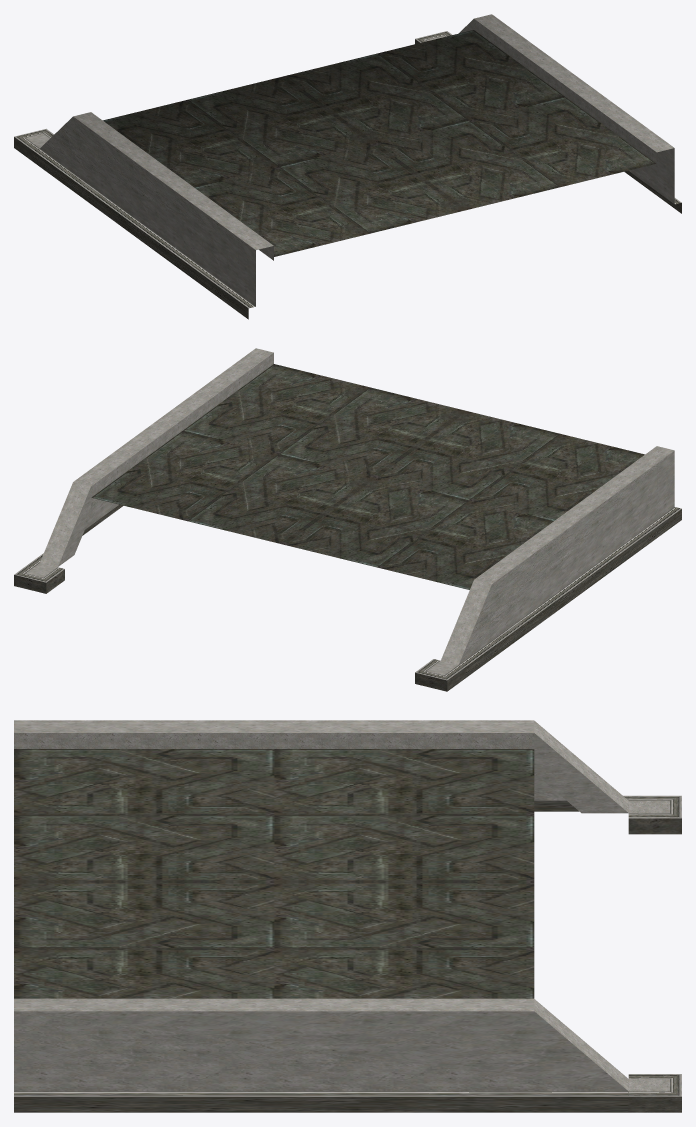
Rendered from DWARF_PALACE_FORGE_GET_ON01.fbx.
The picture shows the model from 3 angles, top to bottom: view 1: azimuth 30°, elevation 25°; view 2: azimuth 150°, elevation 25°; view 3: azimuth 270°, elevation 25°; orthographic projection. The views are drawn at different scales.
Parts seen in each view (by area): view 1: DWARF_PALACE_FORGE_GET_ON01; view 2: DWARF_PALACE_FORGE_GET_ON01; view 3: DWARF_PALACE_FORGE_GET_ON01.
Boxes of the visible parts, x1=… form: DWARF_PALACE_FORGE_GET_ON01: x1=14, y1=14, x2=681, y2=319; DWARF_PALACE_FORGE_GET_ON01: x1=14, y1=348, x2=681, y2=691; DWARF_PALACE_FORGE_GET_ON01: x1=14, y1=720, x2=681, y2=1112.
Size of the model in its own units: 120426 by 18000 by 113028.
4 materials, 4 textured.
